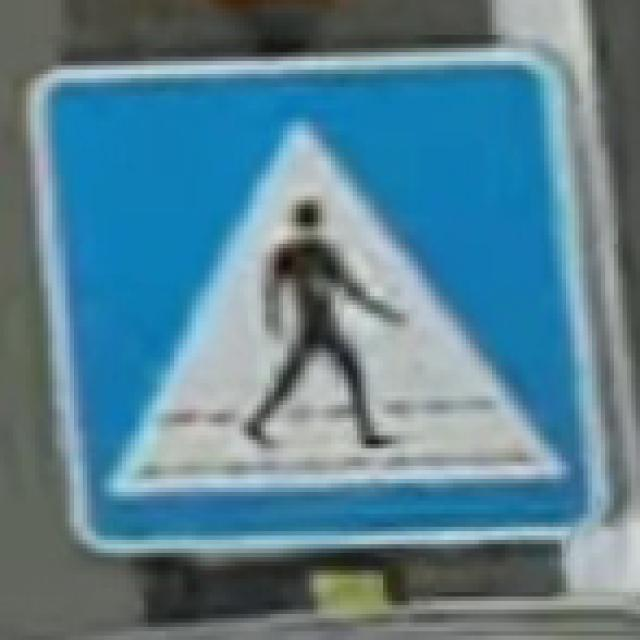zebracrossing_sign: (22, 34, 605, 562)
